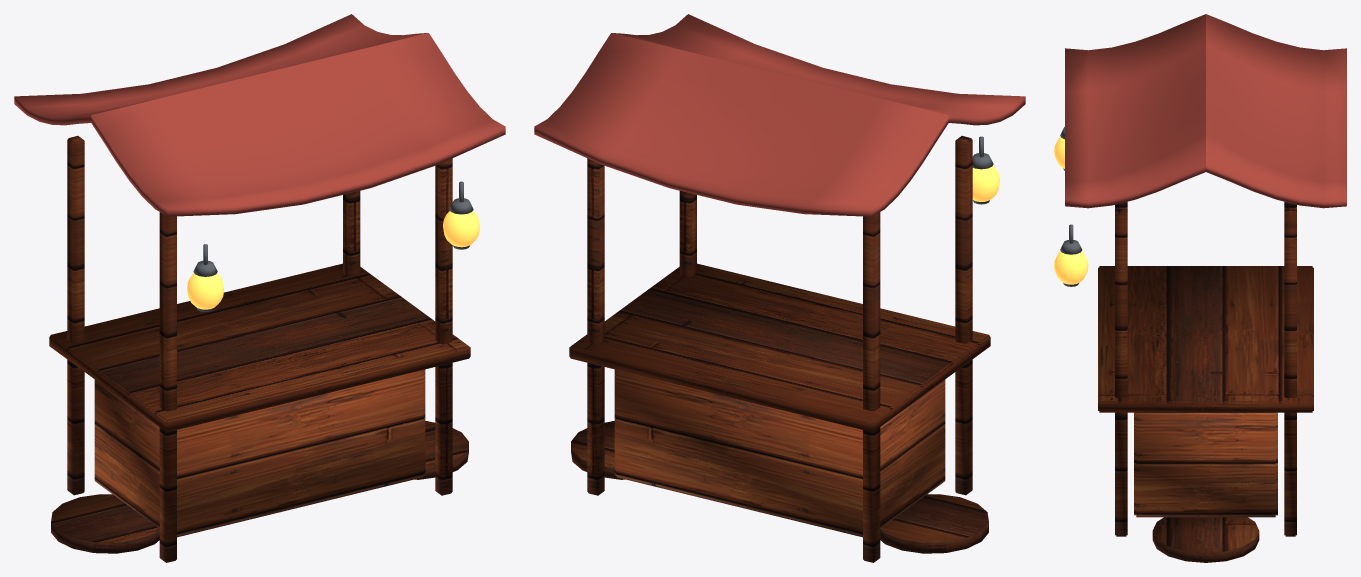
Rendered from yatai_stall_v2.glb.
3 views of the same model, side by side, from view 1: azimuth 30°, elevation 25°; view 2: azimuth 150°, elevation 25°; view 3: azimuth 270°, elevation 25° (orthographic). The views are drawn at different scales.
Parts seen in each view (by area): view 1: yatai_charred, yatai_cloth, yatai_cedar, yatai_chochin, yatai_iron; view 2: yatai_charred, yatai_cloth, yatai_cedar, yatai_chochin; view 3: yatai_cloth, yatai_charred, yatai_cedar, yatai_chochin, yatai_iron.
Boxes of the visible parts, <box> form: yatai_charred: <box>49,136,470,562</box>; yatai_cloth: <box>14,14,505,216</box>; yatai_cedar: <box>94,369,425,537</box>; yatai_chochin: <box>187,211,479,309</box>; yatai_iron: <box>193,181,473,311</box>; yatai_charred: <box>569,136,990,562</box>; yatai_cloth: <box>534,14,1025,216</box>; yatai_cedar: <box>614,369,945,537</box>; yatai_chochin: <box>972,166,999,201</box>; yatai_cloth: <box>1065,14,1346,208</box>; yatai_charred: <box>1098,201,1313,562</box>; yatai_cedar: <box>1134,412,1277,517</box>; yatai_chochin: <box>1054,137,1088,284</box>; yatai_iron: <box>1060,127,1082,286</box>.
Size of the model in its own units: 2.72 by 2.7 by 1.87.
5 materials, 2 textured.
